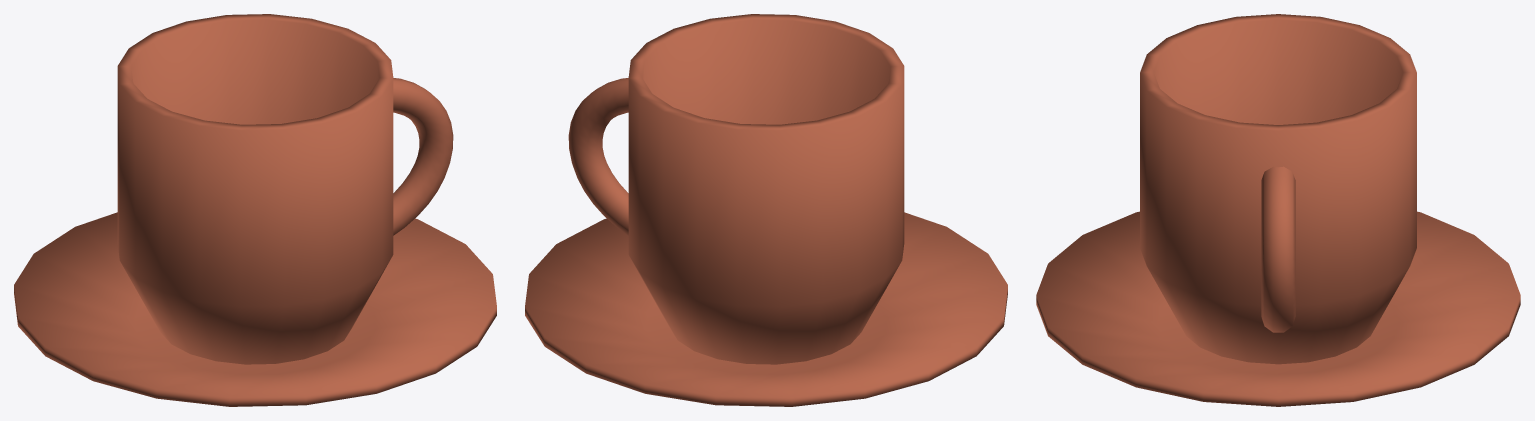
The model's file is i_cups_2.glb.
3 renders of one model, left to right at view 1: azimuth 30°, elevation 25°; view 2: azimuth 150°, elevation 25°; view 3: azimuth 270°, elevation 25°, orthographic.
Parts seen in each view (by area): view 1: o.001, o, o.002; view 2: o.001, o, o.002; view 3: o.001, o, o.002.
Part boxes in pixels (<box>): o.001: <box>117,14,393,364</box>; o: <box>14,212,496,406</box>; o.002: <box>393,78,453,235</box>; o.001: <box>628,14,904,364</box>; o: <box>525,212,1007,406</box>; o.002: <box>568,78,628,235</box>; o.001: <box>1140,14,1416,364</box>; o: <box>1036,211,1520,406</box>; o.002: <box>1261,166,1295,332</box>.
Bounding box in the file's own units: 0.14 × 0.086 × 0.14.
